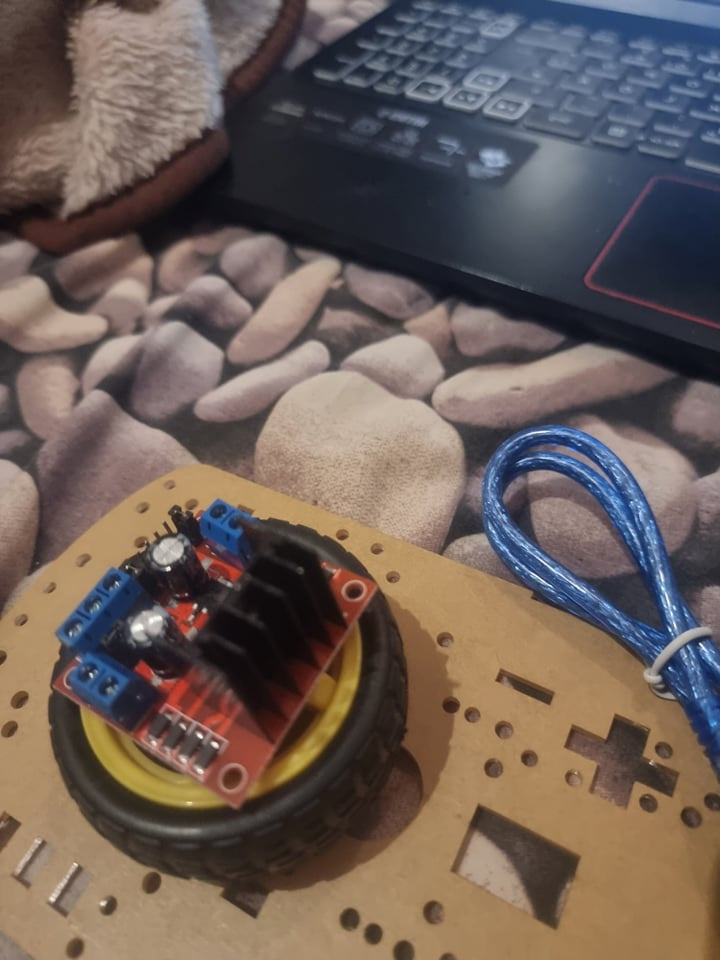MOTOR: (53, 503, 377, 814)
